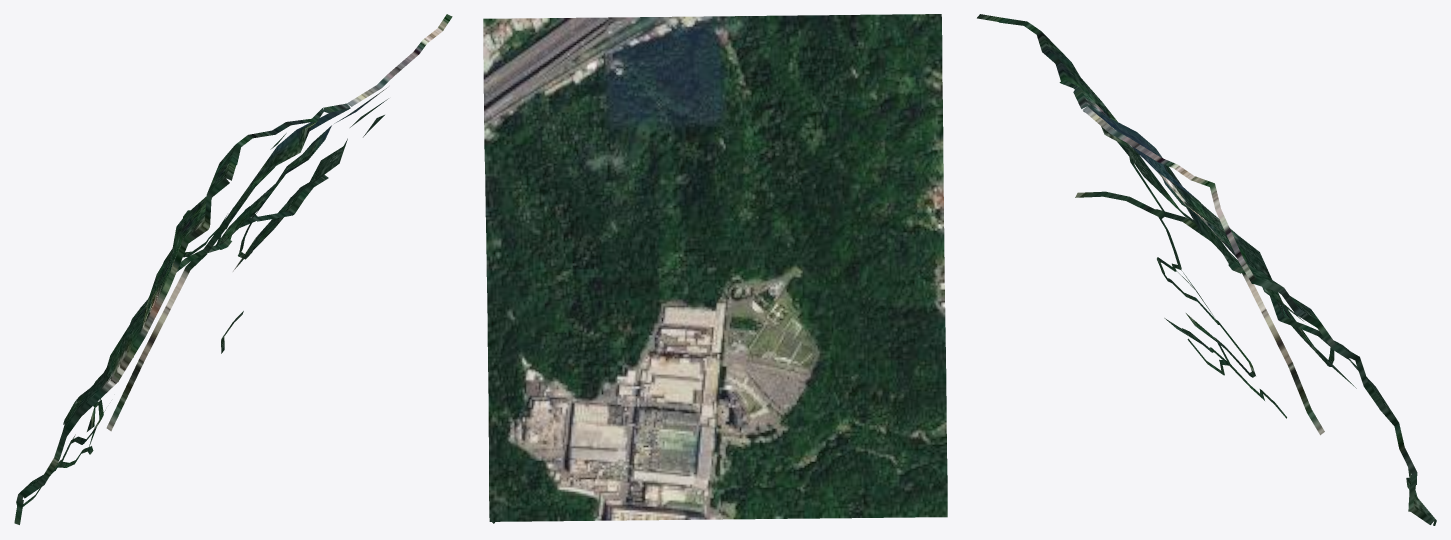
3 views of the same model, side by side, from view 1: azimuth 30°, elevation 25°; view 2: azimuth 150°, elevation 25°; view 3: azimuth 270°, elevation 25° (orthographic).
Size of the model in its own units: 1273 by 1097 by 1112.
Materials: 1 (1 with a texture image).
